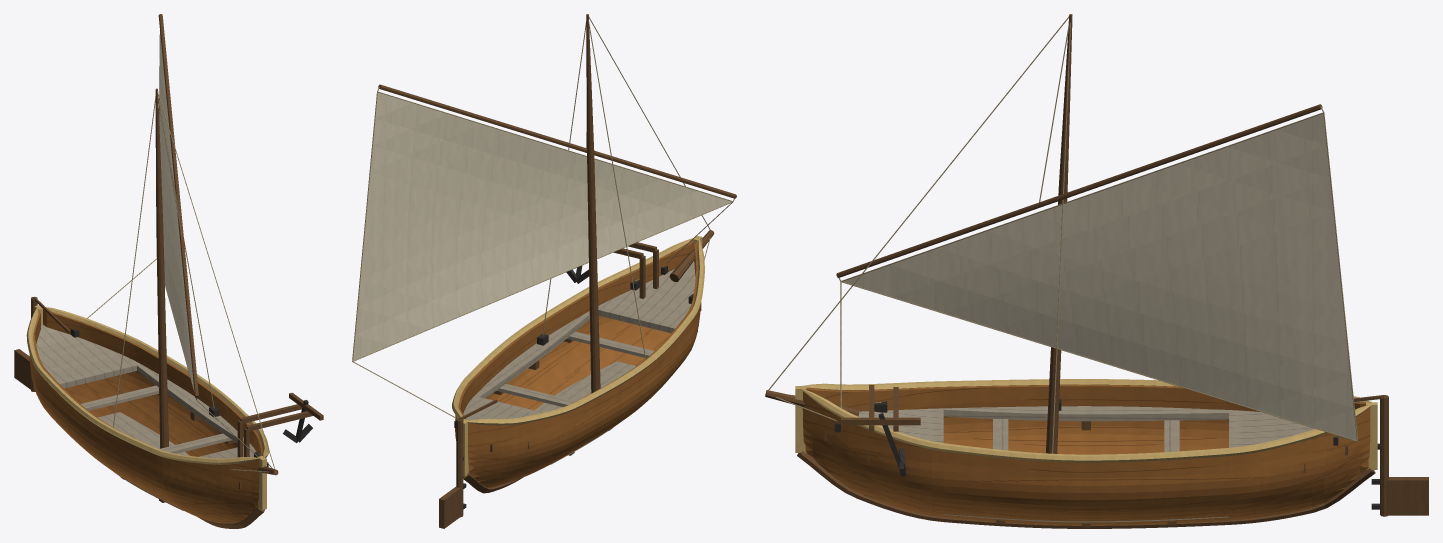
The model's file is ship.glb.
3 views of the same model, side by side, from view 1: azimuth 30°, elevation 25°; view 2: azimuth 150°, elevation 25°; view 3: azimuth 270°, elevation 25° (orthographic). The views are drawn at different scales.
Parts seen in each view (by area): view 1: hull_shell_starboard, hull_shell_port, main_lateen_00, deck_stern, main, gunwale_starboard, main_lateen_00_lateen_yard, gunwale_port, deck_starboard_walkway, cockpit_sole, thwart_0, thwart_1 (+8 smaller); view 2: main_lateen_00, hull_shell_starboard, hull_shell_port, deck_bow, main, gunwale_starboard, main_lateen_00_lateen_yard, deck_starboard_walkway, gunwale_port, cockpit_sole, deck_stern, rudder_blade (+7 smaller); view 3: main_lateen_00, hull_shell_port, hull_shell_starboard, gunwale_port, deck_port_walkway, keel, main_lateen_00_lateen_yard, main, gunwale_starboard, deck_stern, rudder_blade, deck_bow (+5 smaller).
Part boxes in pixels (bbox=[...]): hull_shell_starboard: bbox=[29, 310, 259, 523]; hull_shell_port: bbox=[43, 309, 265, 457]; main_lateen_00: bbox=[159, 35, 194, 389]; deck_stern: bbox=[36, 324, 140, 388]; main: bbox=[155, 88, 168, 448]; gunwale_starboard: bbox=[26, 307, 260, 464]; main_lateen_00_lateen_yard: bbox=[158, 14, 198, 397]; gunwale_port: bbox=[46, 307, 269, 457]; deck_starboard_walkway: bbox=[137, 364, 250, 445]; cockpit_sole: bbox=[98, 412, 189, 510]; thwart_0: bbox=[81, 385, 159, 410]; thwart_1: bbox=[159, 433, 231, 453]; main_lateen_00: bbox=[353, 92, 731, 360]; hull_shell_starboard: bbox=[468, 241, 701, 487]; hull_shell_port: bbox=[455, 240, 693, 440]; deck_bow: bbox=[598, 261, 695, 333]; main: bbox=[586, 14, 600, 393]; gunwale_starboard: bbox=[466, 238, 704, 425]; main_lateen_00_lateen_yard: bbox=[378, 84, 736, 198]; deck_starboard_walkway: bbox=[475, 311, 589, 398]; gunwale_port: bbox=[452, 237, 695, 420]; cockpit_sole: bbox=[535, 361, 636, 464]; deck_stern: bbox=[463, 396, 542, 420]; rudder_blade: bbox=[439, 486, 461, 528]; main_lateen_00: bbox=[843, 113, 1356, 440]; hull_shell_port: bbox=[802, 391, 1370, 525]; hull_shell_starboard: bbox=[806, 384, 1365, 454]; gunwale_port: bbox=[801, 388, 1371, 462]; deck_port_walkway: bbox=[943, 406, 1228, 421]; keel: bbox=[797, 451, 1375, 528]; main_lateen_00_lateen_yard: bbox=[836, 104, 1322, 277]; main: bbox=[1046, 14, 1072, 453]; gunwale_starboard: bbox=[800, 379, 1371, 402]; deck_stern: bbox=[1229, 410, 1314, 447]; rudder_blade: bbox=[1386, 477, 1428, 515]; deck_bow: bbox=[858, 408, 943, 442].
Bounding box in the file's own units: 4.12 × 8.95 × 10.46.
Materials: 7 (7 with a texture image).
